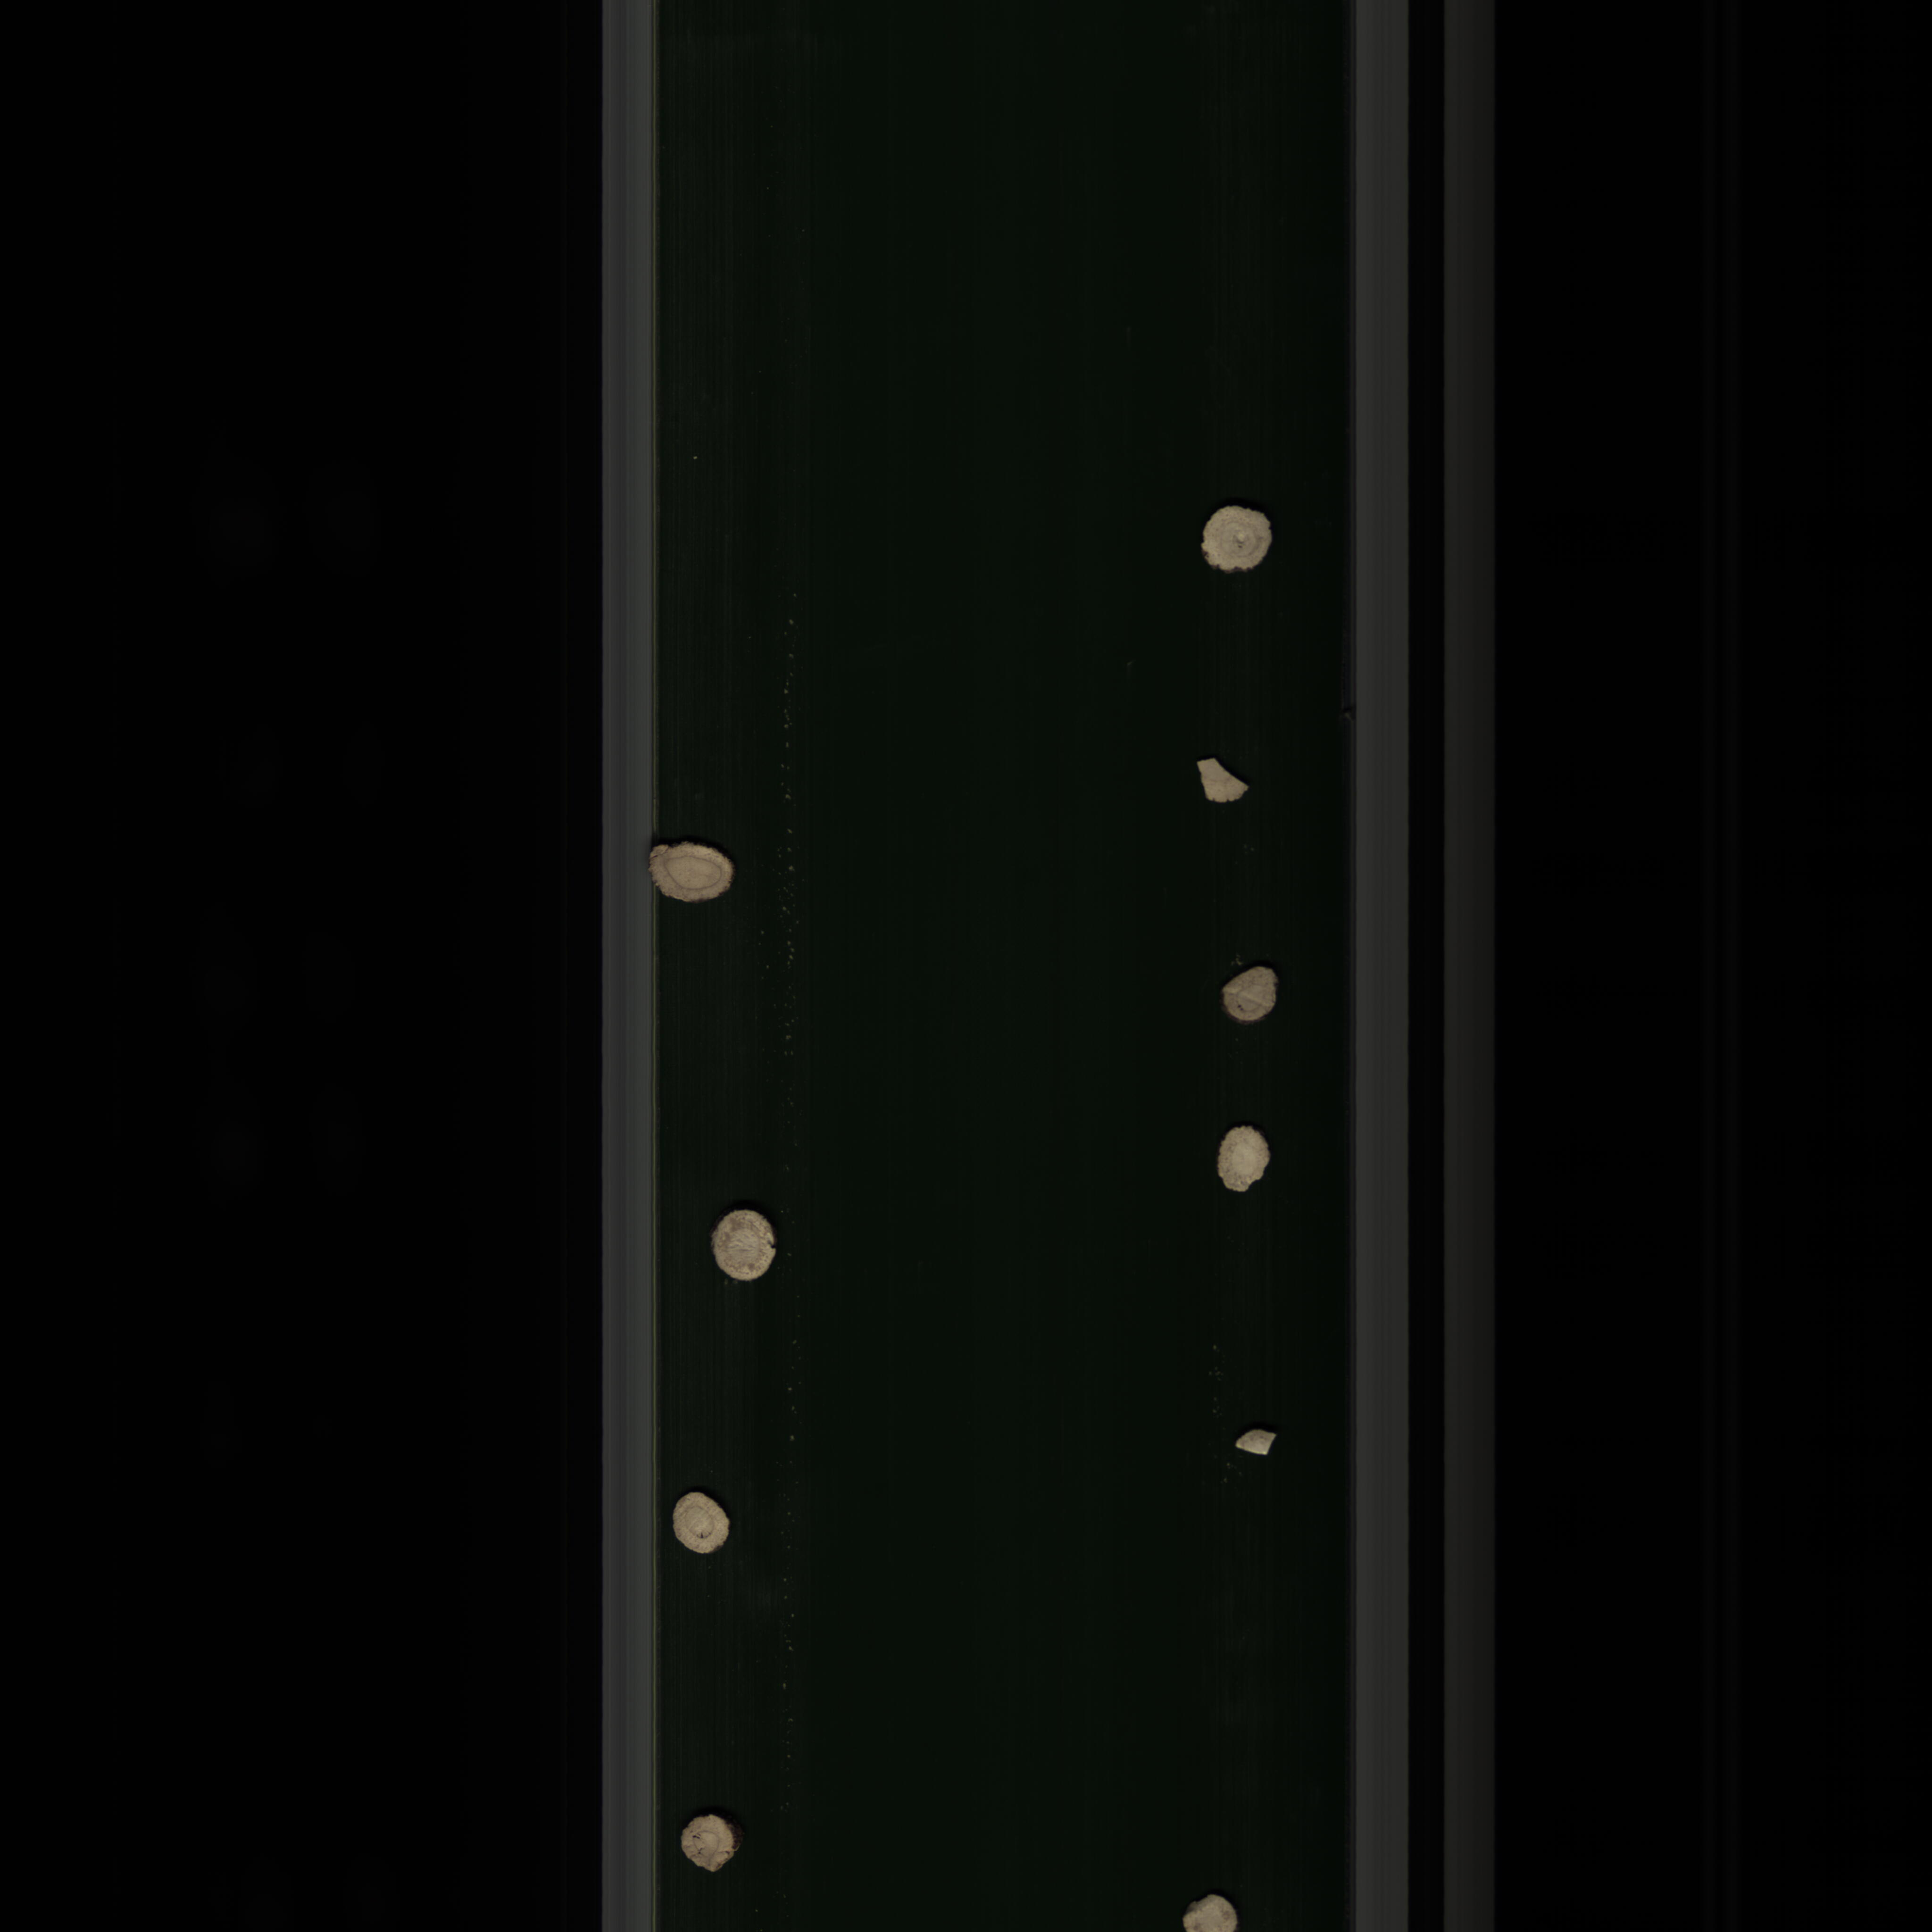debris: (1187, 748, 1256, 812), (1221, 1424, 1283, 1461)
